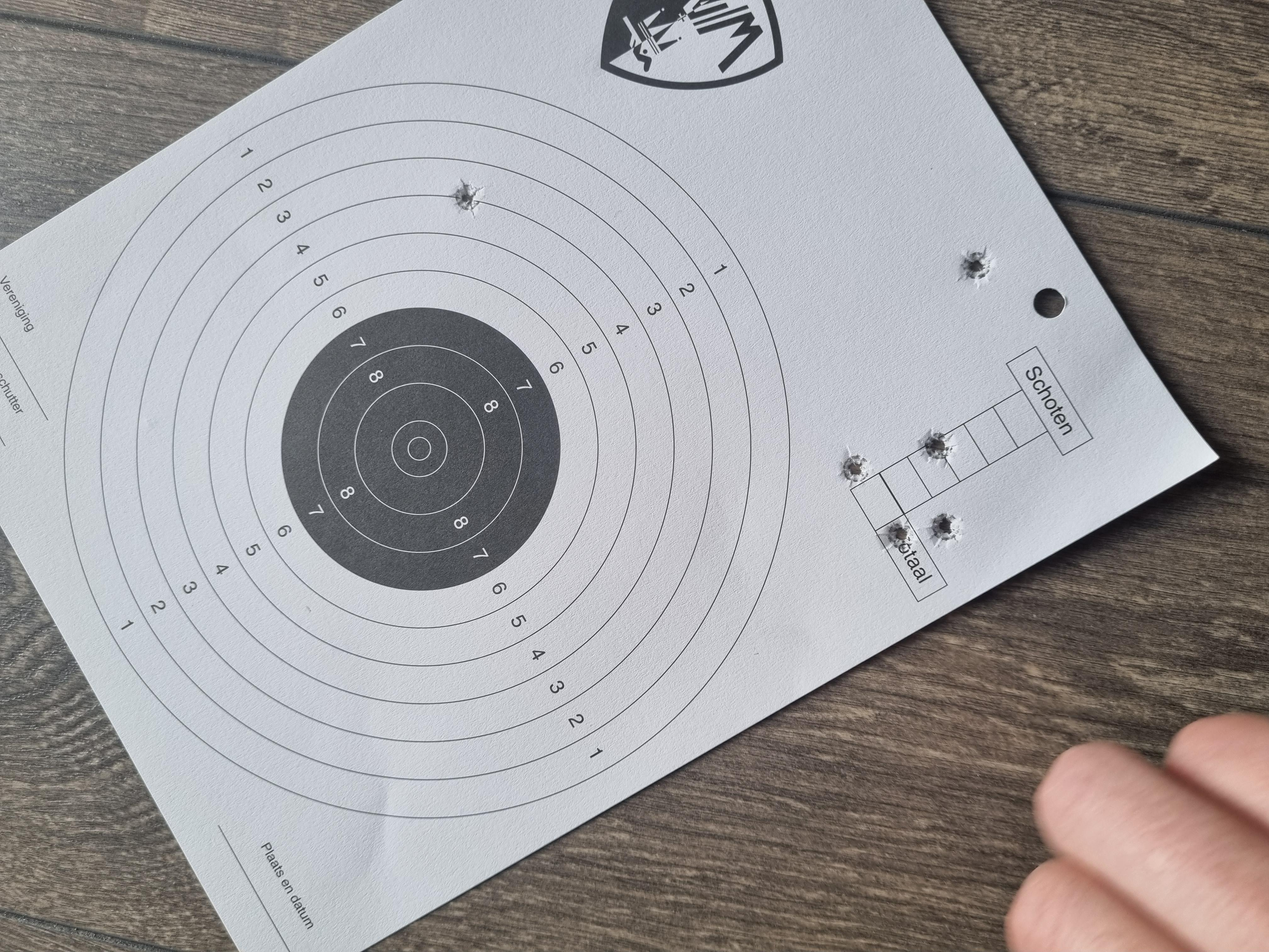hole: (618, 626, 676, 653), (646, 688, 698, 718), (533, 659, 579, 691), (538, 694, 585, 723), (891, 718, 941, 744), (988, 339, 1031, 360)
